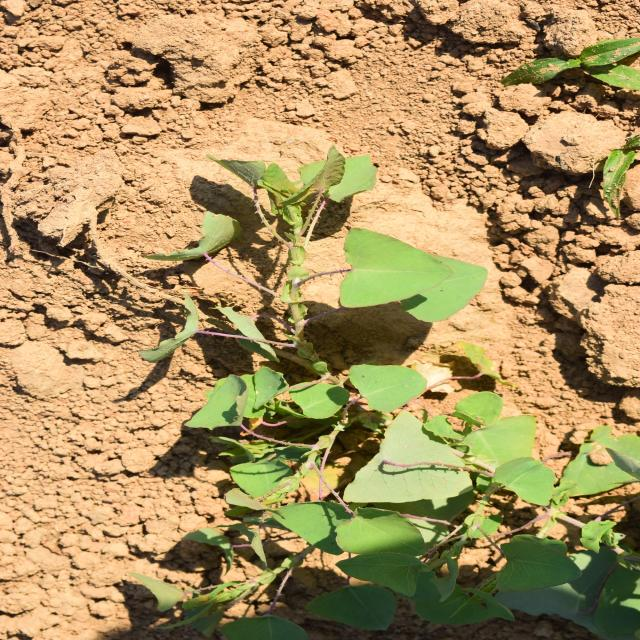Asiatic_Smartweed: (0, 296, 154, 564), (140, 324, 288, 528), (364, 152, 495, 382), (149, 144, 331, 294), (309, 328, 429, 500)
